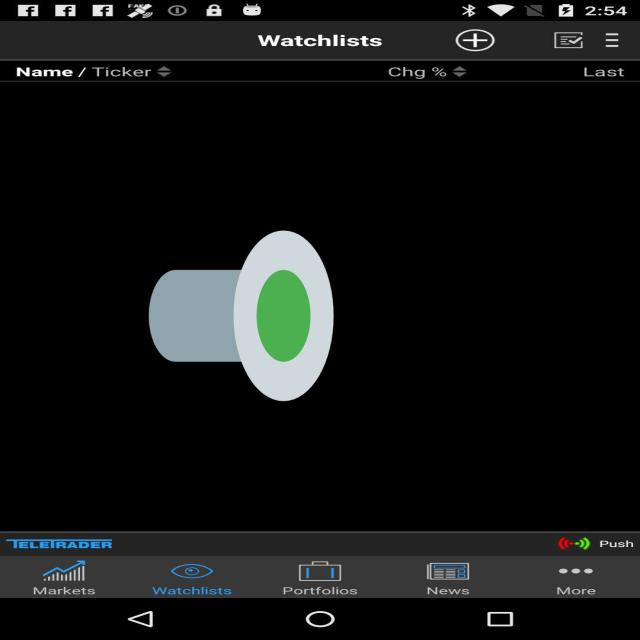social proof: (148, 158, 334, 474)
